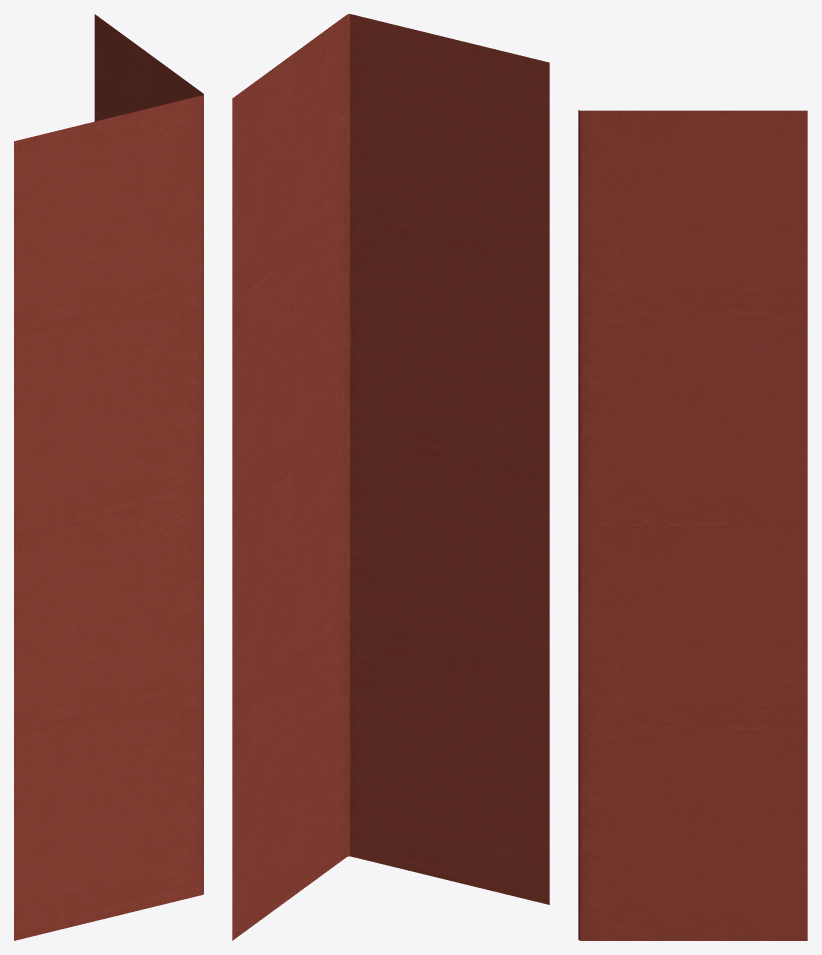
Rendered from SM_dev_wall_offset_corner_out_offsetuv_400.fbx.
The picture shows the model from 3 angles, left to right: view 1: azimuth 30°, elevation 25°; view 2: azimuth 150°, elevation 25°; view 3: azimuth 270°, elevation 25°; orthographic projection. The views are drawn at different scales.
Visible parts, largest first — view 1: pPlane352; view 2: pPlane352; view 3: pPlane352.
Part boxes in pixels (x1,y1,x2,y2): pPlane352: (14, 14, 203, 940); pPlane352: (232, 14, 549, 940); pPlane352: (578, 110, 807, 940).
Size of the model in its own units: 1 by 4 by 1.
